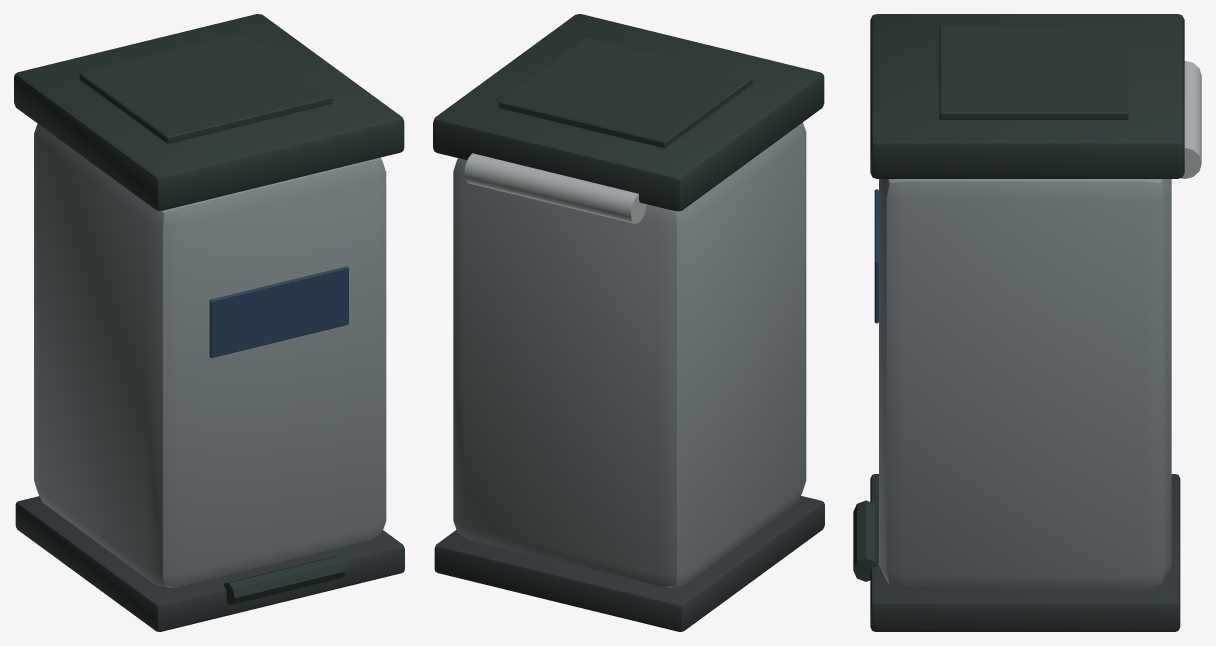
Rendered from trash-bin.glb.
3 views of the same model, side by side, from view 1: azimuth 30°, elevation 25°; view 2: azimuth 150°, elevation 25°; view 3: azimuth 270°, elevation 25° (orthographic). The views are drawn at different scales.
Visible parts, largest first — view 1: trash-bin; view 2: trash-bin; view 3: trash-bin.
Part boxes in pixels (x1=…): trash-bin: x1=14, y1=14, x2=404, y2=631; trash-bin: x1=433, y1=14, x2=824, y2=631; trash-bin: x1=853, y1=14, x2=1201, y2=631.
Size of the model in its own units: 0.36 by 0.64 by 0.405.
